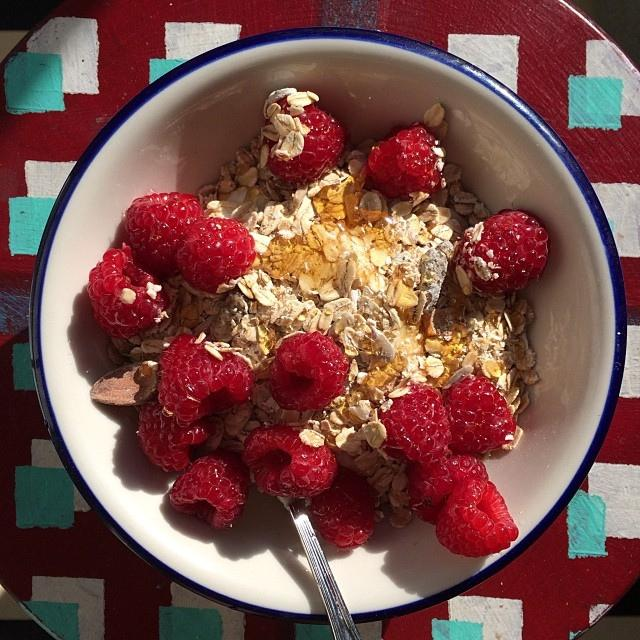raspberry: (160, 335, 253, 425), (452, 209, 550, 293), (87, 242, 170, 341), (262, 98, 346, 186), (168, 446, 253, 532), (242, 424, 340, 498), (125, 192, 204, 281), (435, 475, 519, 558), (363, 122, 447, 201), (270, 331, 350, 412), (175, 216, 258, 294), (136, 396, 215, 473), (379, 386, 453, 468), (442, 374, 516, 454), (408, 454, 488, 525), (304, 480, 376, 550)
